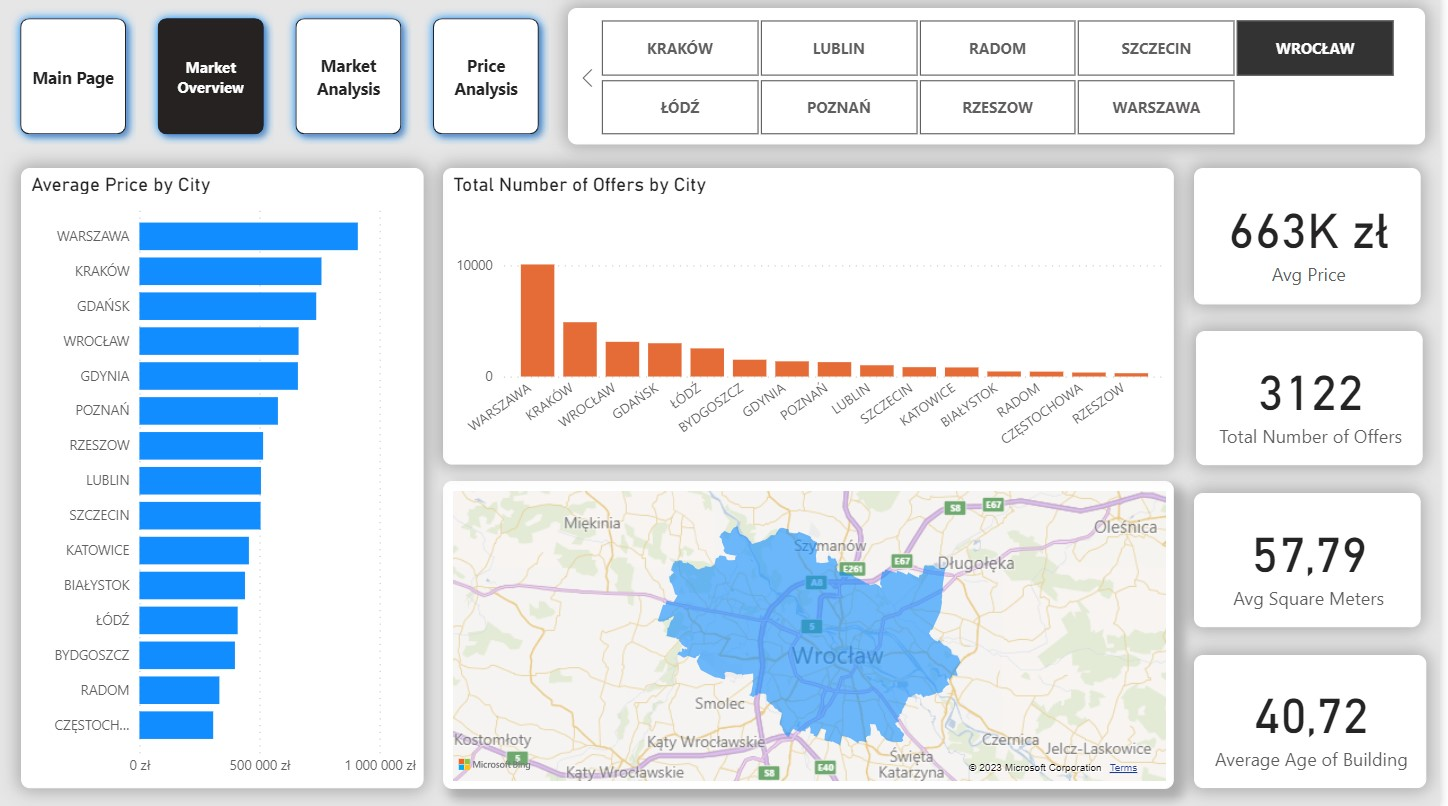

This screenshot's page, from the dashboard's own definition file:
{"tool":"powerbi","page":{"name":"Market Overview","canvas":[1280,720],"ordinal":1},"visuals":[{"type":"filledMap","fields":{"Category":["DIM_City.city"]},"box":[395.6,430.6,647.6,272.6],"z":0},{"type":"card","fields":{"Values":["_Measures.Avg Price"]},"box":[1061.3,153.2,201.4,120.6],"z":1000},{"type":"card","fields":{"Values":["_Measures.Avg Square Meters"]},"box":[1061.8,441.4,201.4,119.4],"z":2000},{"type":"card","fields":{"Values":["_Measures.Nuber of offers"]},"box":[1063,297.9,201.4,119.4],"z":3000},{"type":"card","fields":{"Values":["_Measures.Average Age of Building"]},"box":[1061.3,584.9,206.2,118.2],"z":4000},{"type":"columnChart","title":"Total Number of Offers by City","fields":{"Y":["_Measures.Nuber of offers"],"Category":["DIM_City.city"]},"box":[395.6,153.2,647.6,262.9],"z":5000},{"type":"barChart","title":"Average Price by City","fields":{"Y":["_Measures.Avg Price"],"Category":["DIM_City.city"]},"box":[21.7,153.2,357,549.9],"z":6000},{"type":"slicer","fields":{"Values":["DIM_City.city"]},"box":[506.2,11.2,760,121.2],"z":7000},{"type":"pageNavigator","box":[11.2,11.2,481.2,121.2],"z":8000}]}

Visuals, with their boxes in screenshot pixels (x1, y1, x2, y2), scaled from the page's 1280x720 canvas onto the 1448x806 screenshot:
filledMap - DIM_City.city: 448,482,1180,787
card - _Measures.Avg Price: 1201,171,1428,307
card - _Measures.Avg Square Meters: 1201,494,1429,628
card - _Measures.Nuber of offers: 1203,333,1430,467
card - _Measures.Average Age of Building: 1201,655,1434,787
"Total Number of Offers by City" columnChart: 448,171,1180,466
"Average Price by City" barChart: 25,171,428,787
slicer - DIM_City.city: 573,13,1432,148
pageNavigator: 13,13,557,148
